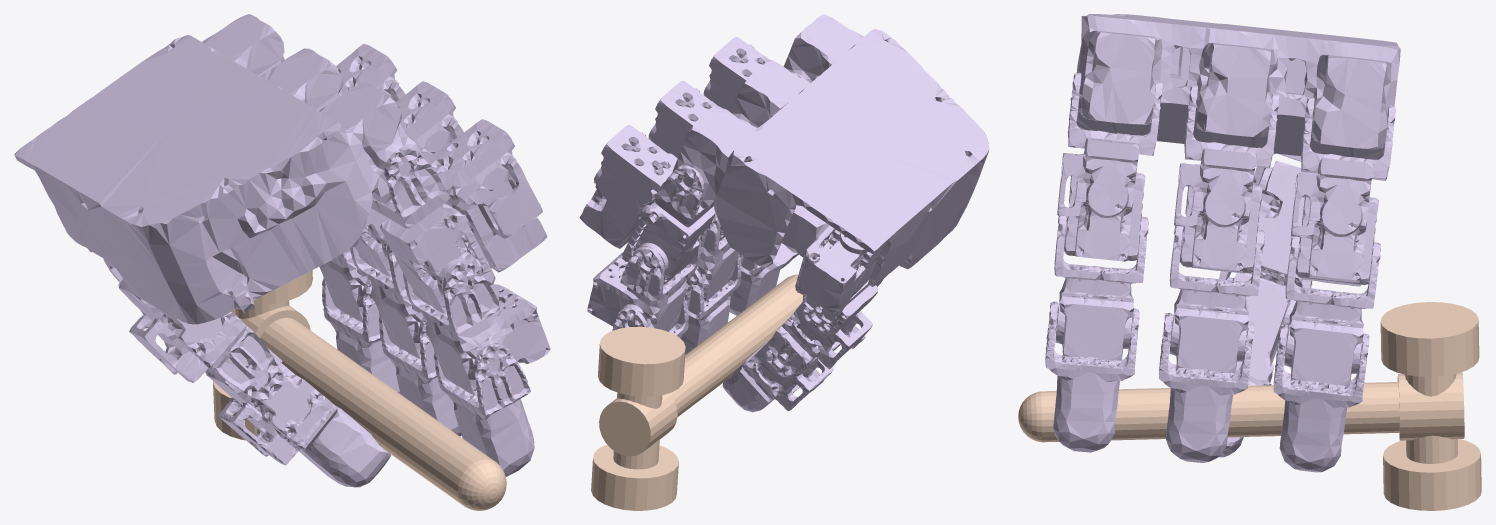
The picture shows the model from 3 angles, left to right: view 1: azimuth 30°, elevation 25°; view 2: azimuth 150°, elevation 25°; view 3: azimuth 270°, elevation 25°; orthographic projection. The views are drawn at different scales.
Visible parts, largest first — view 1: LEAP_hand, world; view 2: LEAP_hand, world; view 3: LEAP_hand, world.
Part boxes in pixels (x1,y1,x2,y2): LEAP_hand: (14, 14, 550, 487); world: (213, 270, 506, 510); LEAP_hand: (579, 14, 989, 412); world: (591, 274, 802, 510); LEAP_hand: (1045, 14, 1400, 472); world: (1018, 302, 1481, 510).
Bounding box in the file's own units: 0.1619 × 0.1873 × 0.1795.
